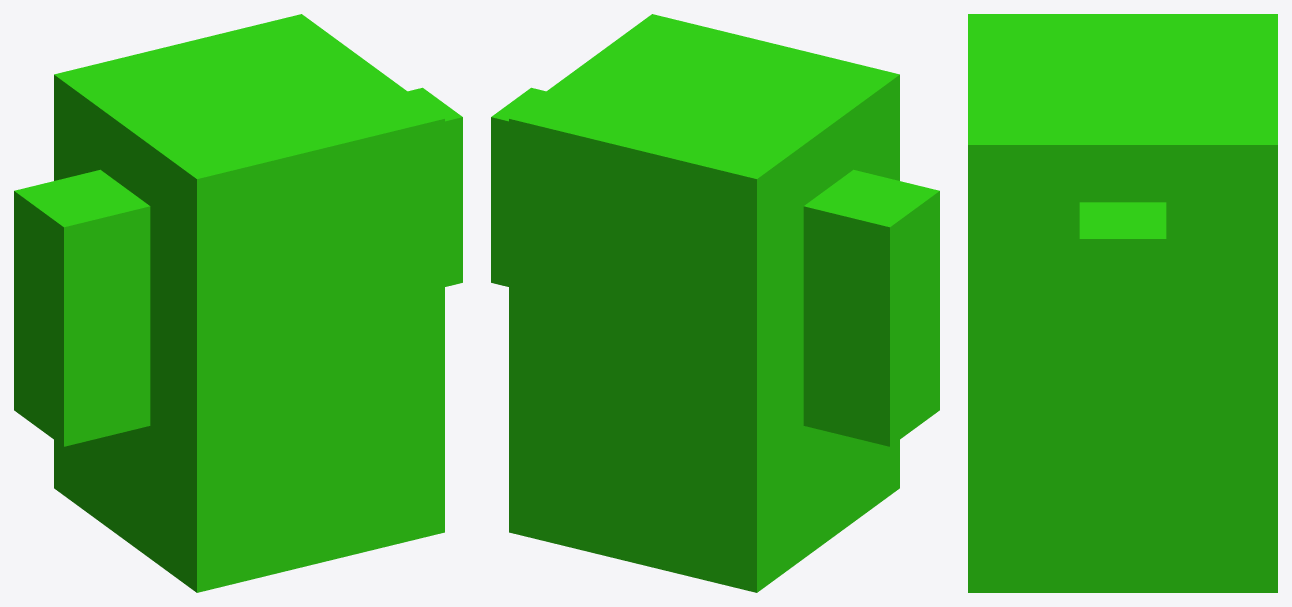
Rendered from Cactus.fbx.
3 views of the same model, side by side, from view 1: azimuth 30°, elevation 25°; view 2: azimuth 150°, elevation 25°; view 3: azimuth 270°, elevation 25° (orthographic). The views are drawn at different scales.
Visible parts, largest first — view 1: Cactus; view 2: Cactus; view 3: Cactus.
Boxes of the visible parts, <box> form: Cactus: <box>14,14,462,592</box>; Cactus: <box>491,14,939,592</box>; Cactus: <box>968,14,1277,592</box>.
Bounding box in the file's own units: 91.7 × 89.77 × 56.28.
